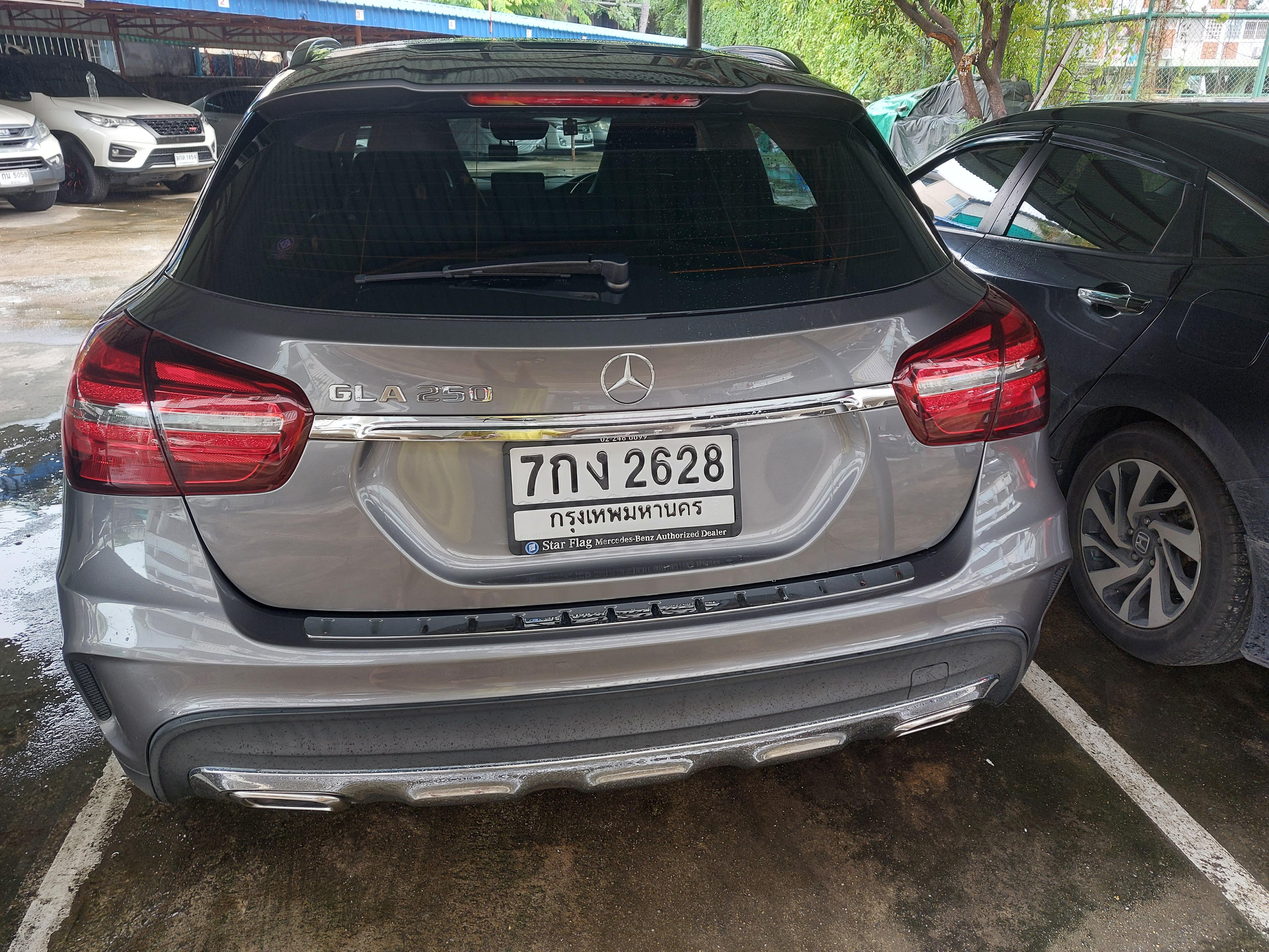license-plate: (496, 430, 743, 563)
